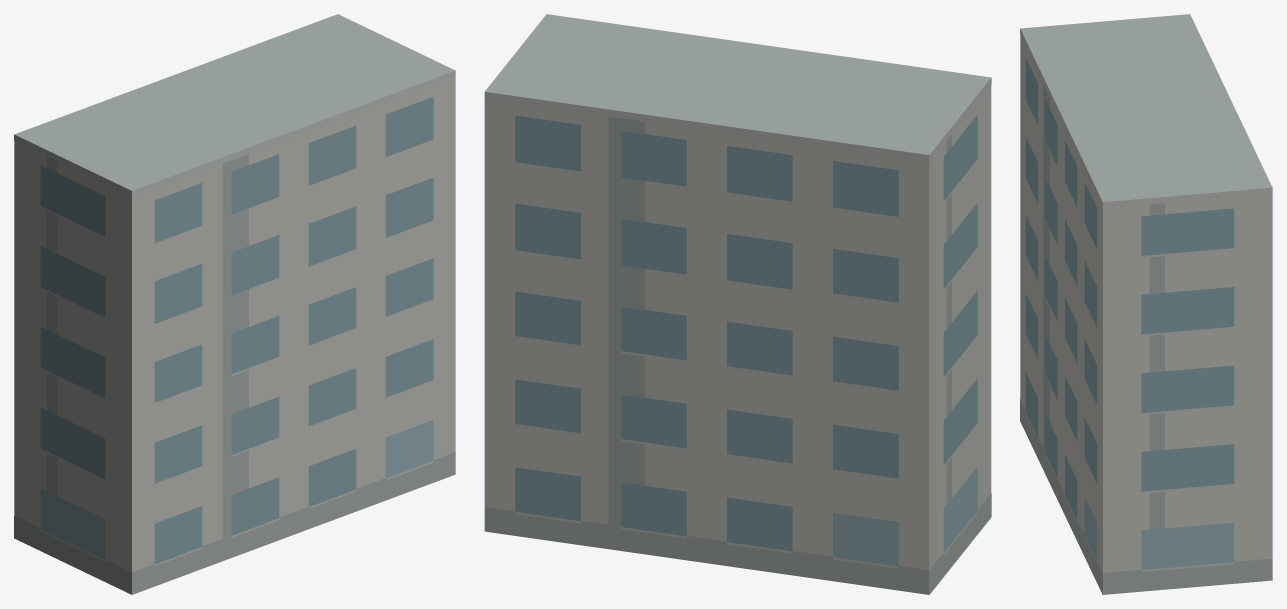
The model's file is residential-990e85db-2c37-4a40-bf37-6477d536f7f8.glb.
3 views of the same model, side by side, from view 1: azimuth 30°, elevation 25°; view 2: azimuth 150°, elevation 25°; view 3: azimuth 270°, elevation 25° (orthographic). The views are drawn at different scales.
Visible parts, largest first — view 1: residential-990e85db-2c37-4a40-bf37-6477d536f7f8.tmp; view 2: residential-990e85db-2c37-4a40-bf37-6477d536f7f8.tmp; view 3: residential-990e85db-2c37-4a40-bf37-6477d536f7f8.tmp.
Boxes of the visible parts, <box> form: residential-990e85db-2c37-4a40-bf37-6477d536f7f8.tmp: <box>14,14,455,594</box>; residential-990e85db-2c37-4a40-bf37-6477d536f7f8.tmp: <box>484,14,991,594</box>; residential-990e85db-2c37-4a40-bf37-6477d536f7f8.tmp: <box>1020,14,1272,594</box>.
Bounding box in the file's own units: 15.68 × 15.25 × 8.9.
